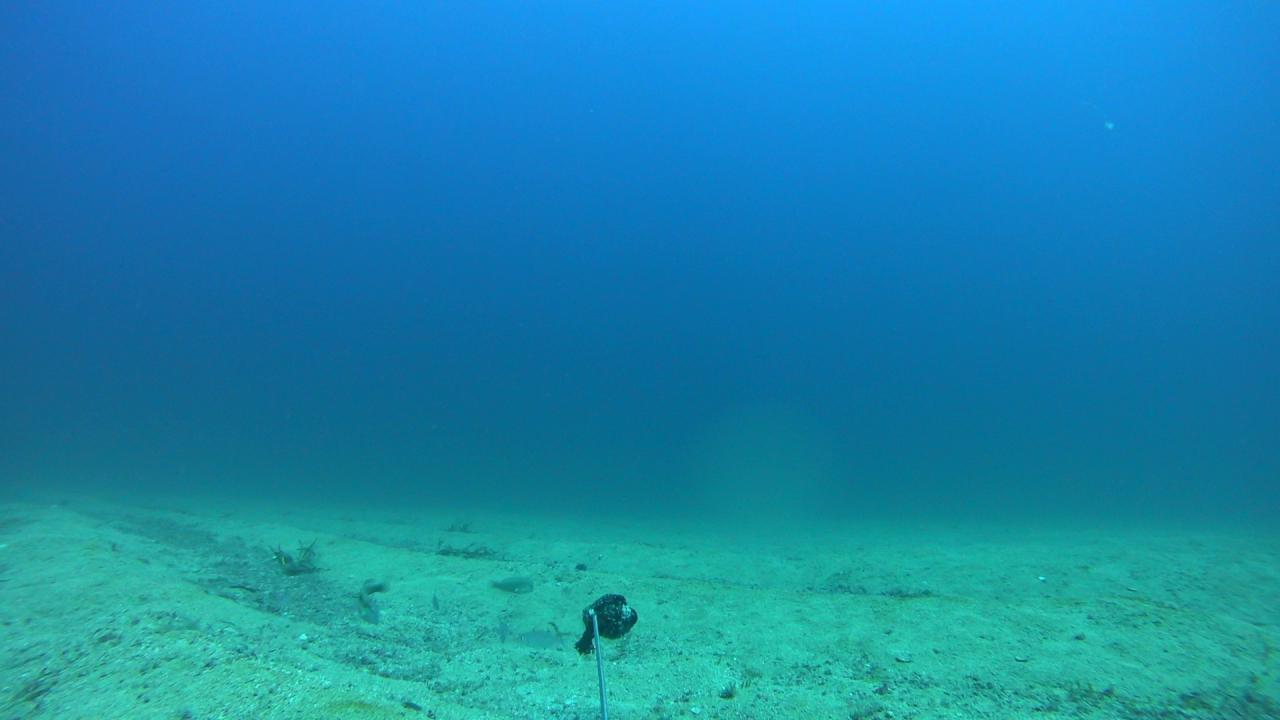pagellus: (512, 629, 567, 648)
